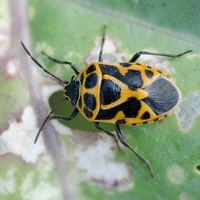insect: (21, 26, 191, 176)
